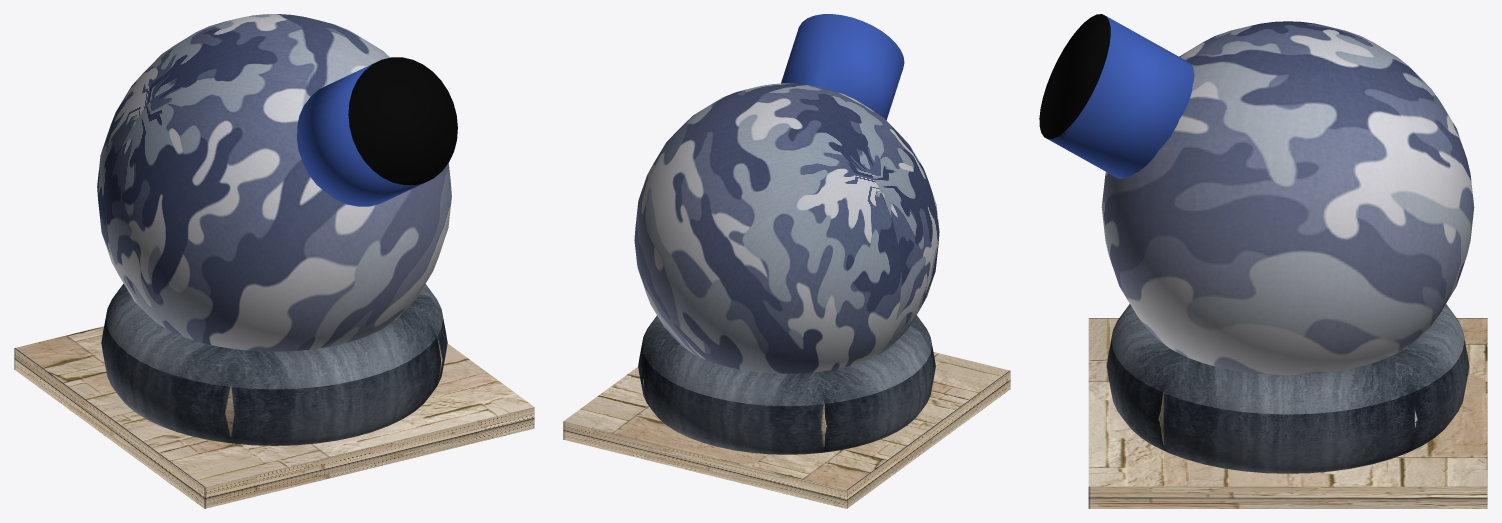
Rendered from tower 1_2.fbx.
3 renders of one model, left to right at view 1: azimuth 30°, elevation 25°; view 2: azimuth 150°, elevation 25°; view 3: azimuth 270°, elevation 25°, orthographic. The views are drawn at different scales.
Visible parts, largest first — view 1: Cube; view 2: Cube; view 3: Cube.
Part boxes in pixels (<box>): Cube: <box>14,14,534,508</box>; Cube: <box>563,14,1010,508</box>; Cube: <box>1039,14,1487,508</box>.
Bounding box in the file's own units: 2 × 2.3 × 2.25.
